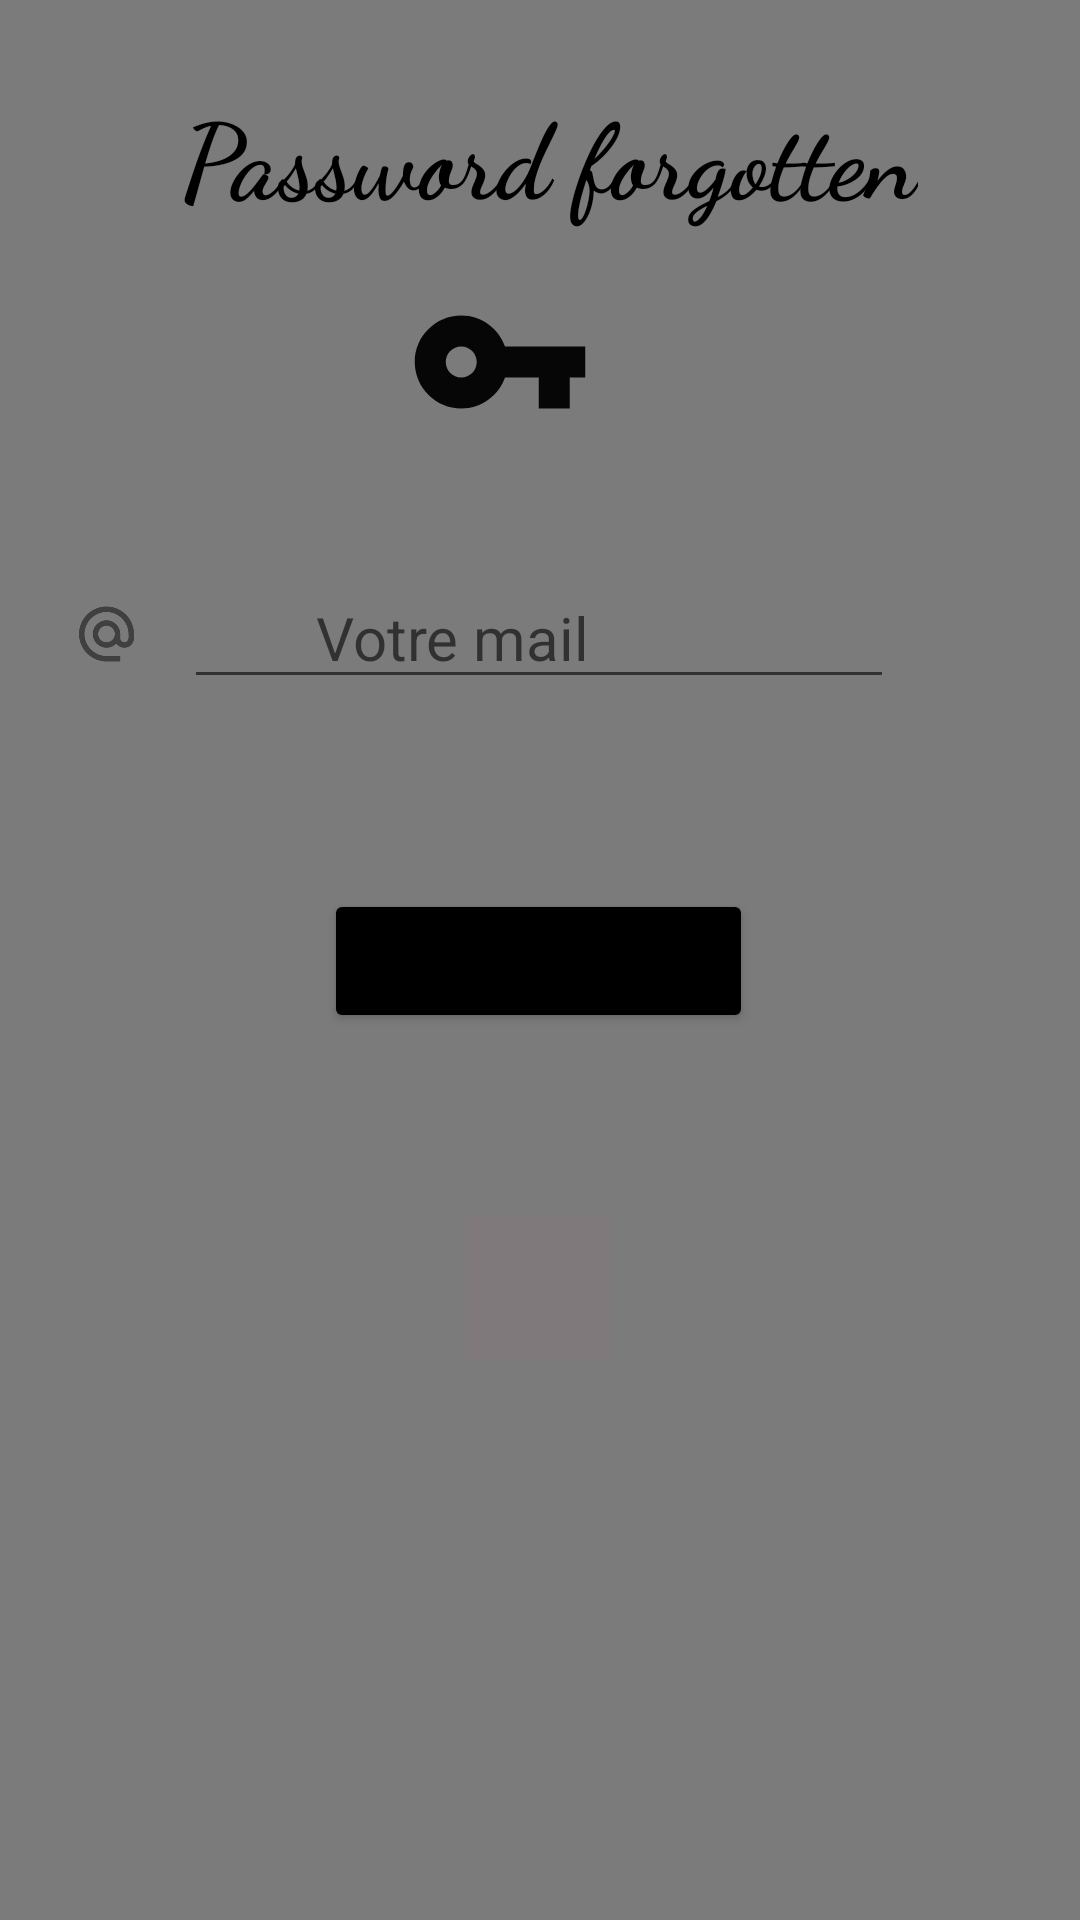

Icons on this 1080w x 1920h Android screen, each with the point to tap as [x,y]:
alternate email: [106,634]
vpn key: [500,362]
